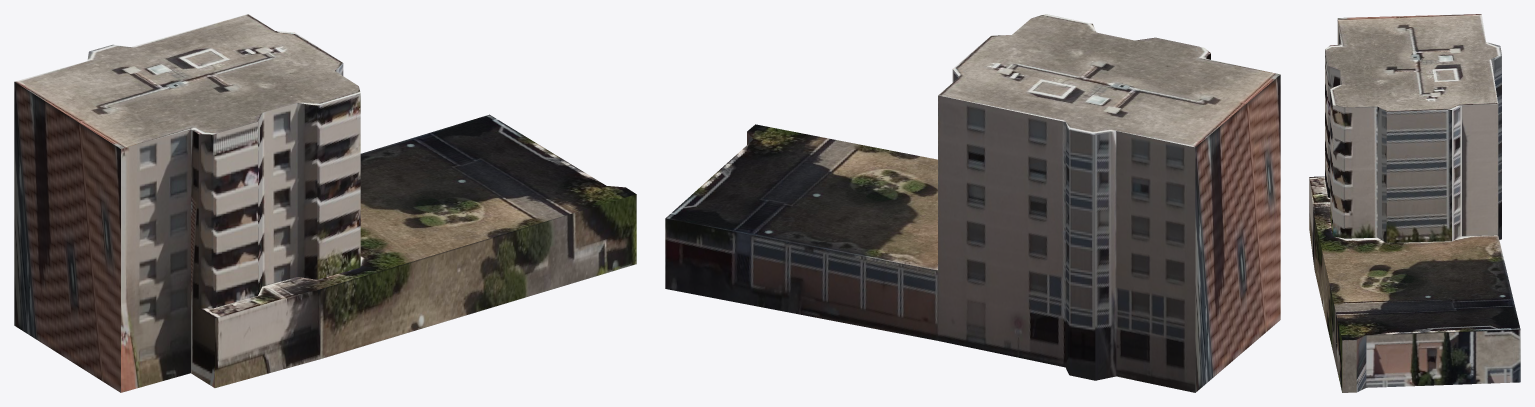
3 views of the same model, side by side, from view 1: azimuth 30°, elevation 25°; view 2: azimuth 150°, elevation 25°; view 3: azimuth 270°, elevation 25° (orthographic). The views are drawn at different scales.
Visible parts, largest first — view 1: Z_UP; view 2: Z_UP; view 3: Z_UP.
Boxes of the visible parts, <box> form: Z_UP: <box>14,14,636,392</box>; Z_UP: <box>665,14,1280,392</box>; Z_UP: <box>1309,14,1520,392</box>.
Bounding box in the file's own units: 40.98 × 18.04 × 18.76.
2 materials, 1 textured.
